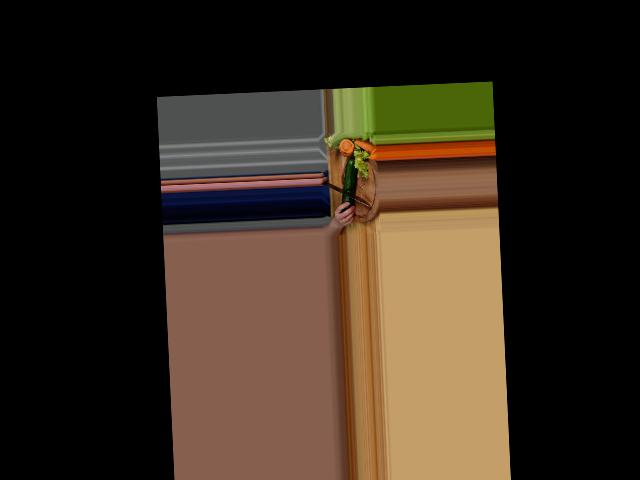cucumber: (339, 157, 358, 212)
